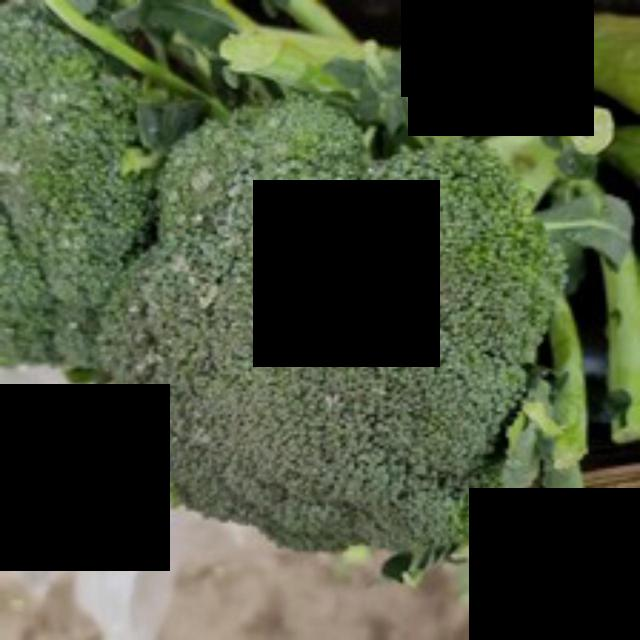broccoli: (90, 97, 560, 585)
